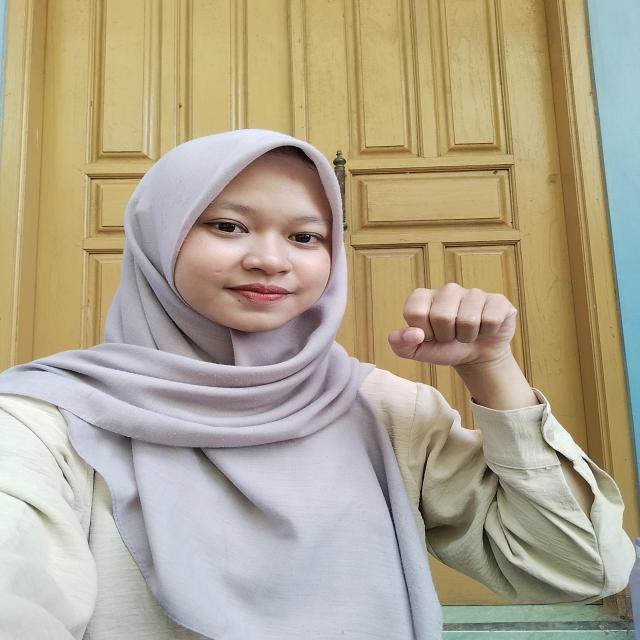baik: (376, 273, 552, 408)
